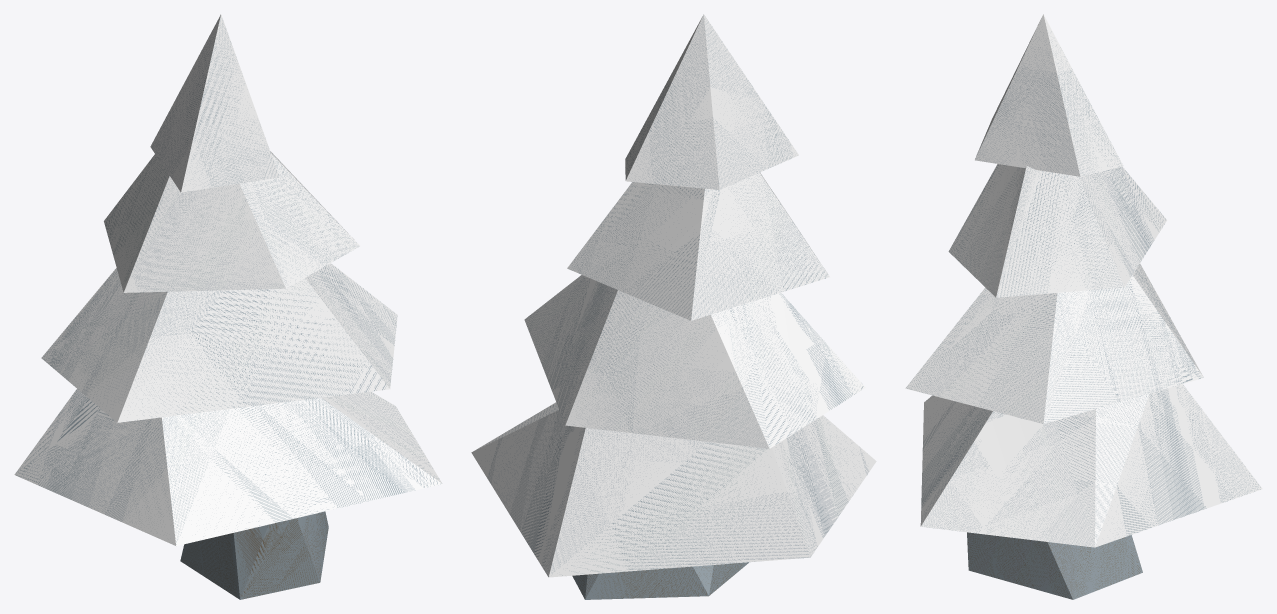
File: Tree_Pine_Snow_02.fbx
3 views of the same model, side by side, from view 1: azimuth 30°, elevation 25°; view 2: azimuth 150°, elevation 25°; view 3: azimuth 270°, elevation 25° (orthographic). The views are drawn at different scales.
Parts seen in each view (by area): view 1: Model; view 2: Model; view 3: Model.
Boxes of the visible parts, x1=… form: Model: x1=14, y1=14, x2=442, y2=599; Model: x1=471, y1=14, x2=876, y2=599; Model: x1=905, y1=14, x2=1262, y2=599.
Bounding box in the file's own units: 840 × 1244 × 763.
